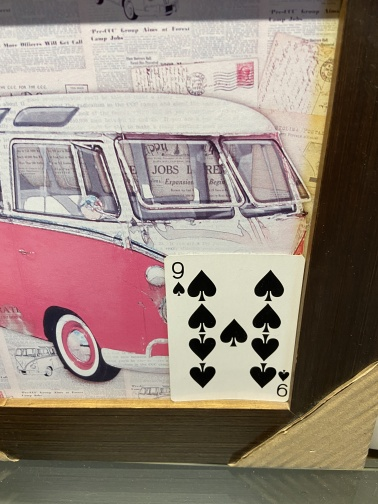nine: (163, 252, 306, 404)
